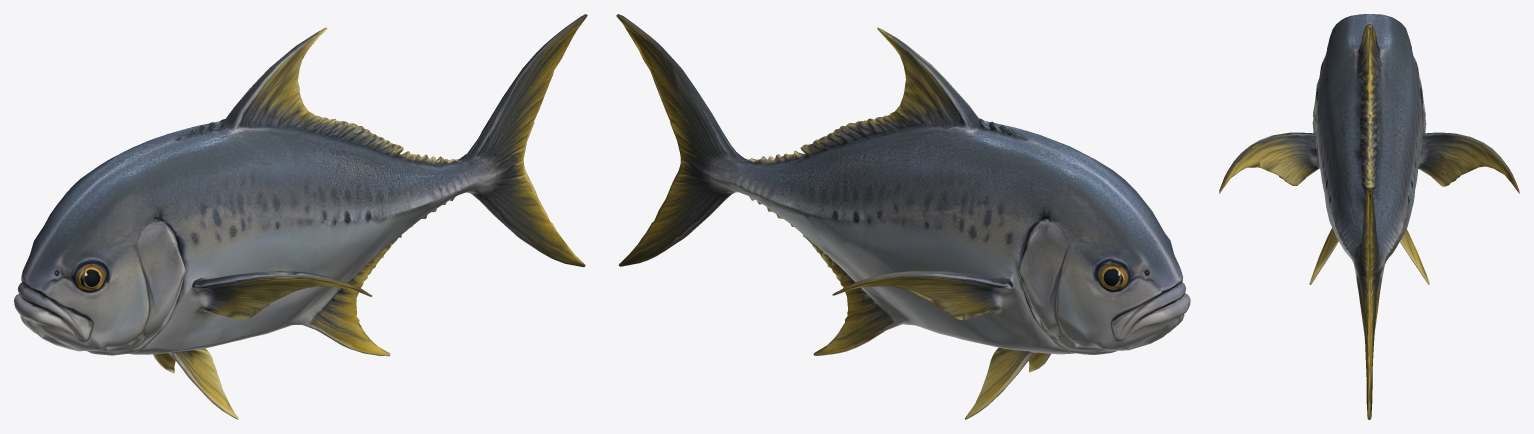
The model's file is fish-karanks.glb.
3 views of the same model, side by side, from view 1: azimuth 30°, elevation 25°; view 2: azimuth 150°, elevation 25°; view 3: azimuth 270°, elevation 25° (orthographic). The views are drawn at different scales.
Parts seen in each view (by area): view 1: tripo_node_c99447fa-040e-486d-831f-594a26b2f04b; view 2: tripo_node_c99447fa-040e-486d-831f-594a26b2f04b; view 3: tripo_node_c99447fa-040e-486d-831f-594a26b2f04b.
Part boxes in pixels (x1=…): tripo_node_c99447fa-040e-486d-831f-594a26b2f04b: x1=14, y1=14, x2=587, y2=419; tripo_node_c99447fa-040e-486d-831f-594a26b2f04b: x1=616, y1=14, x2=1190, y2=419; tripo_node_c99447fa-040e-486d-831f-594a26b2f04b: x1=1219, y1=14, x2=1519, y2=419.
Size of the model in its own units: 0.9998 by 0.5772 by 0.4971.
1 material, 1 textured.
